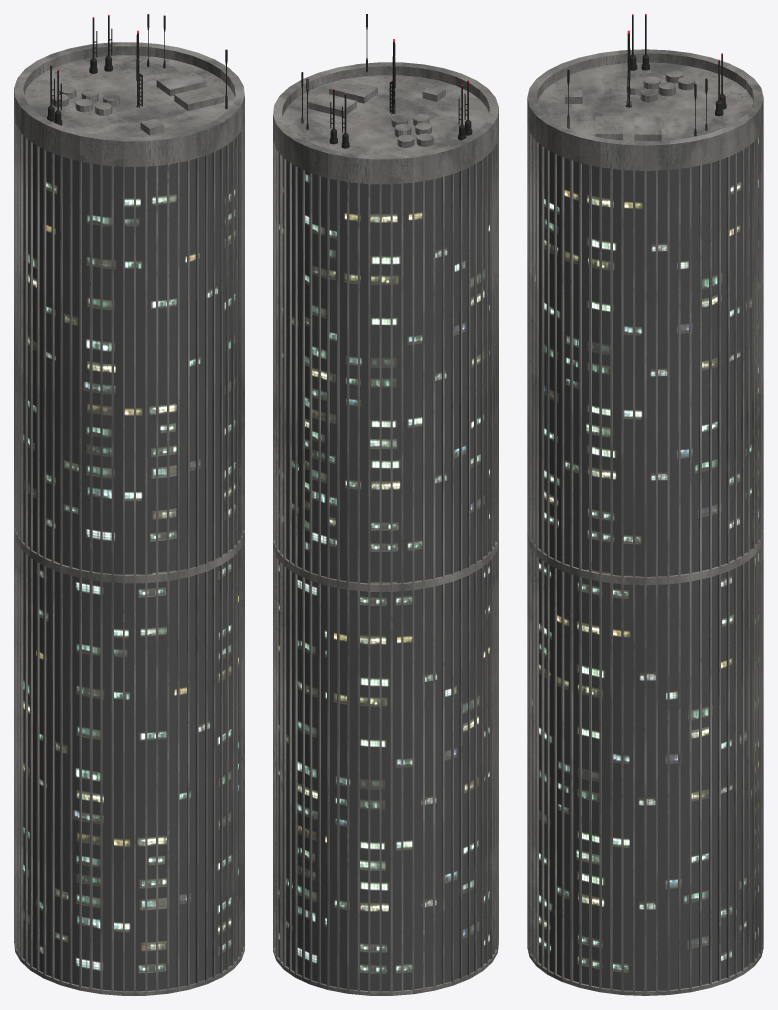
File: cylinder-building.glb
The picture shows the model from 3 angles, left to right: view 1: azimuth 30°, elevation 25°; view 2: azimuth 150°, elevation 25°; view 3: azimuth 270°, elevation 25°; orthographic projection. The views are drawn at different scales.
Parts seen in each view (by area): view 1: cylinder-building.005; view 2: cylinder-building.005; view 3: cylinder-building.005.
Boxes of the visible parts, x1,y1,x2,y2 form: cylinder-building.005: (14, 14, 244, 995); cylinder-building.005: (273, 14, 498, 995); cylinder-building.005: (527, 14, 763, 995).
Size of the model in its own units: 82.71 by 368 by 85.86.
Materials: 4 (2 with a texture image).
